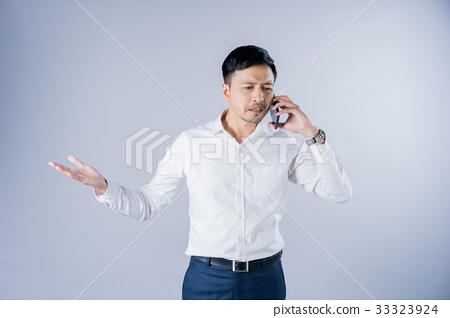phone: (270, 91, 281, 130)
talk: (237, 79, 312, 137)
